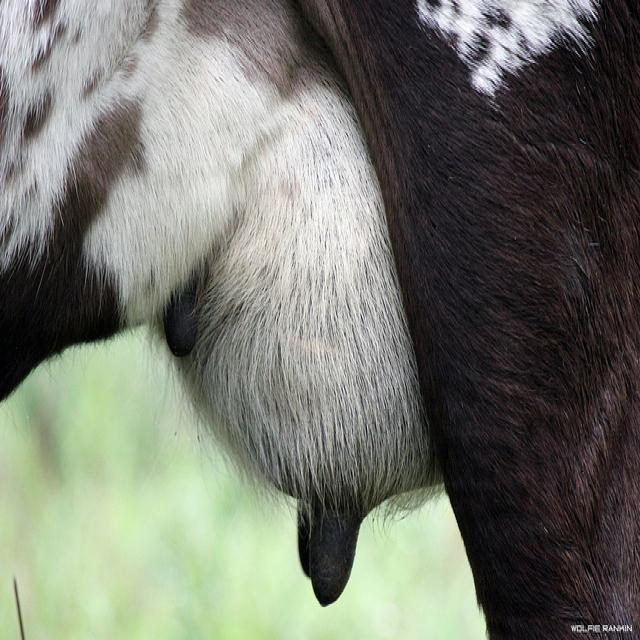cow: (0, 0, 636, 631)
